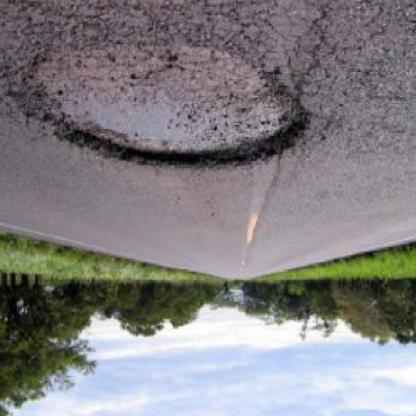pothole: (7, 25, 315, 173)
